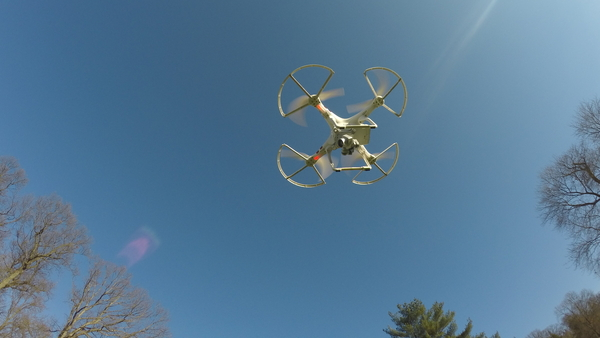drone: (275, 62, 407, 190)
